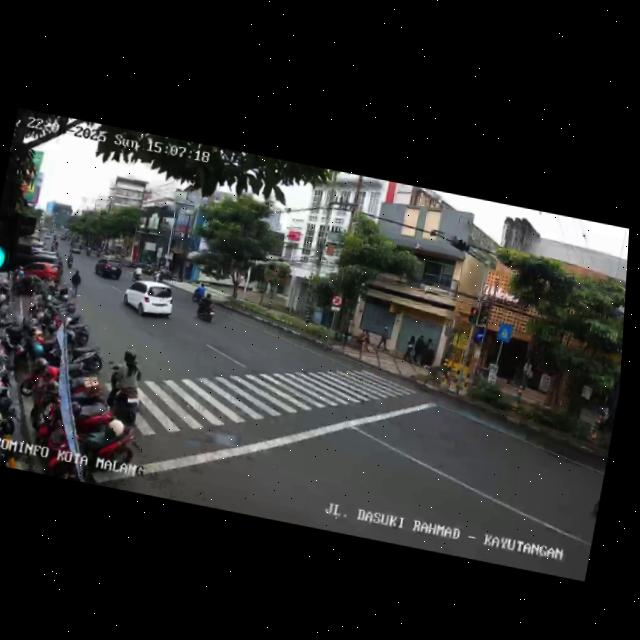car: (119, 274, 179, 326), (8, 245, 63, 294), (92, 252, 124, 281)
motorcycle: (103, 346, 149, 426), (194, 290, 220, 323), (190, 280, 208, 304)
person: (65, 268, 85, 302), (375, 322, 392, 352), (412, 331, 426, 365), (401, 330, 415, 361)
